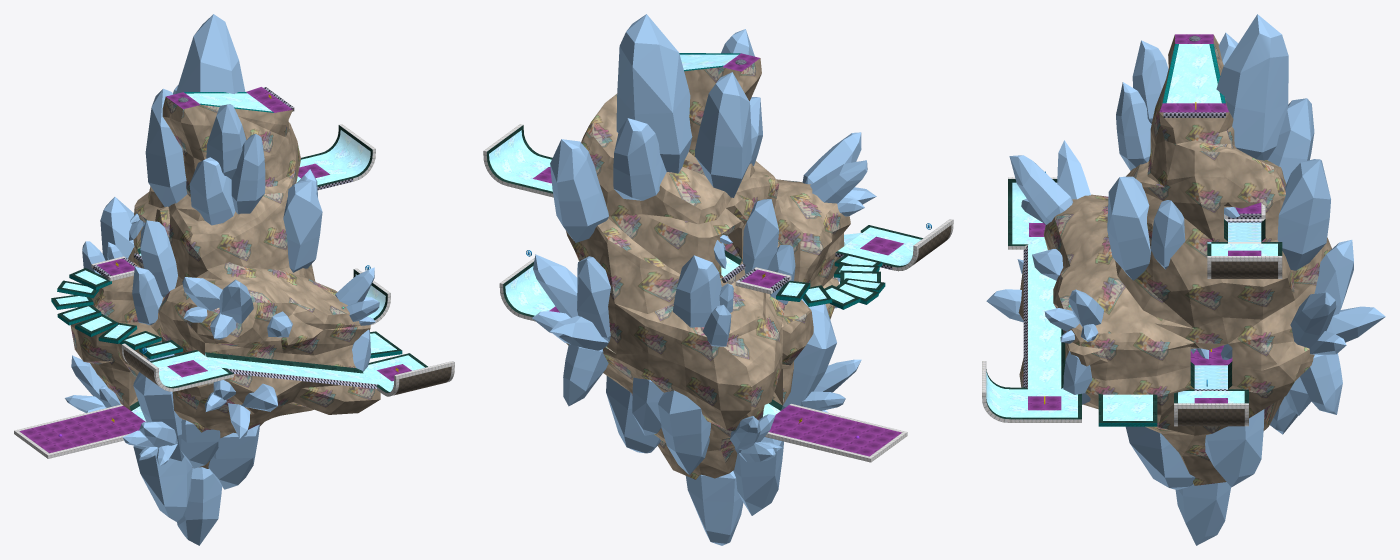
Rendered from icy_ascent.glb.
The picture shows the model from 3 angles, left to right: view 1: azimuth 30°, elevation 25°; view 2: azimuth 150°, elevation 25°; view 3: azimuth 270°, elevation 25°; orthographic projection. The views are drawn at different scales.
Visible parts, largest first — view 1: New Game Object; view 2: New Game Object; view 3: New Game Object.
Boxes of the visible parts, left/top/right/bottom form: New Game Object: left=14, top=14, right=454, bottom=545; New Game Object: left=483, top=14, right=953, bottom=545; New Game Object: left=982, top=14, right=1385, bottom=545.
Bounding box in the file's own units: 105 × 147 × 96.85.
Materials: 20 (13 with a texture image).
